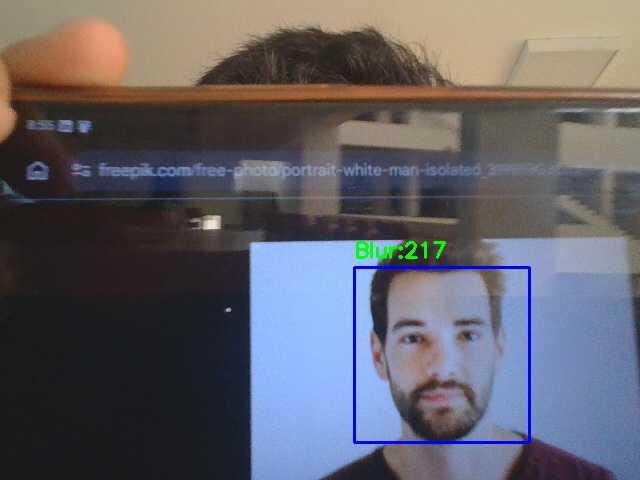fake: (354, 267, 529, 442)
